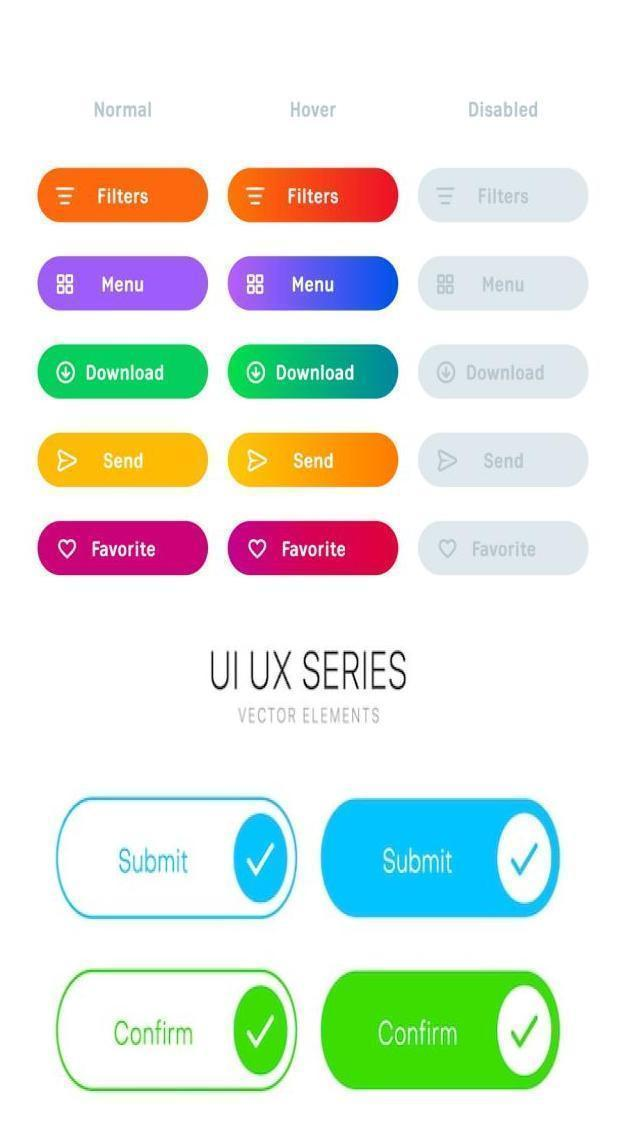Text: (204, 644, 415, 694), (224, 704, 385, 734), (463, 99, 543, 124), (90, 102, 158, 124), (286, 102, 340, 124)
TextButton: (57, 968, 300, 1094), (318, 796, 562, 921), (318, 970, 562, 1092), (57, 796, 299, 919), (35, 340, 212, 403), (420, 517, 590, 580), (226, 519, 403, 578), (38, 518, 210, 578), (227, 432, 404, 490), (227, 342, 400, 401), (37, 429, 211, 486), (37, 167, 210, 223), (34, 258, 210, 313), (228, 258, 402, 313), (224, 168, 396, 223), (417, 350, 588, 405), (417, 169, 587, 223), (420, 432, 586, 486), (416, 261, 586, 313)
